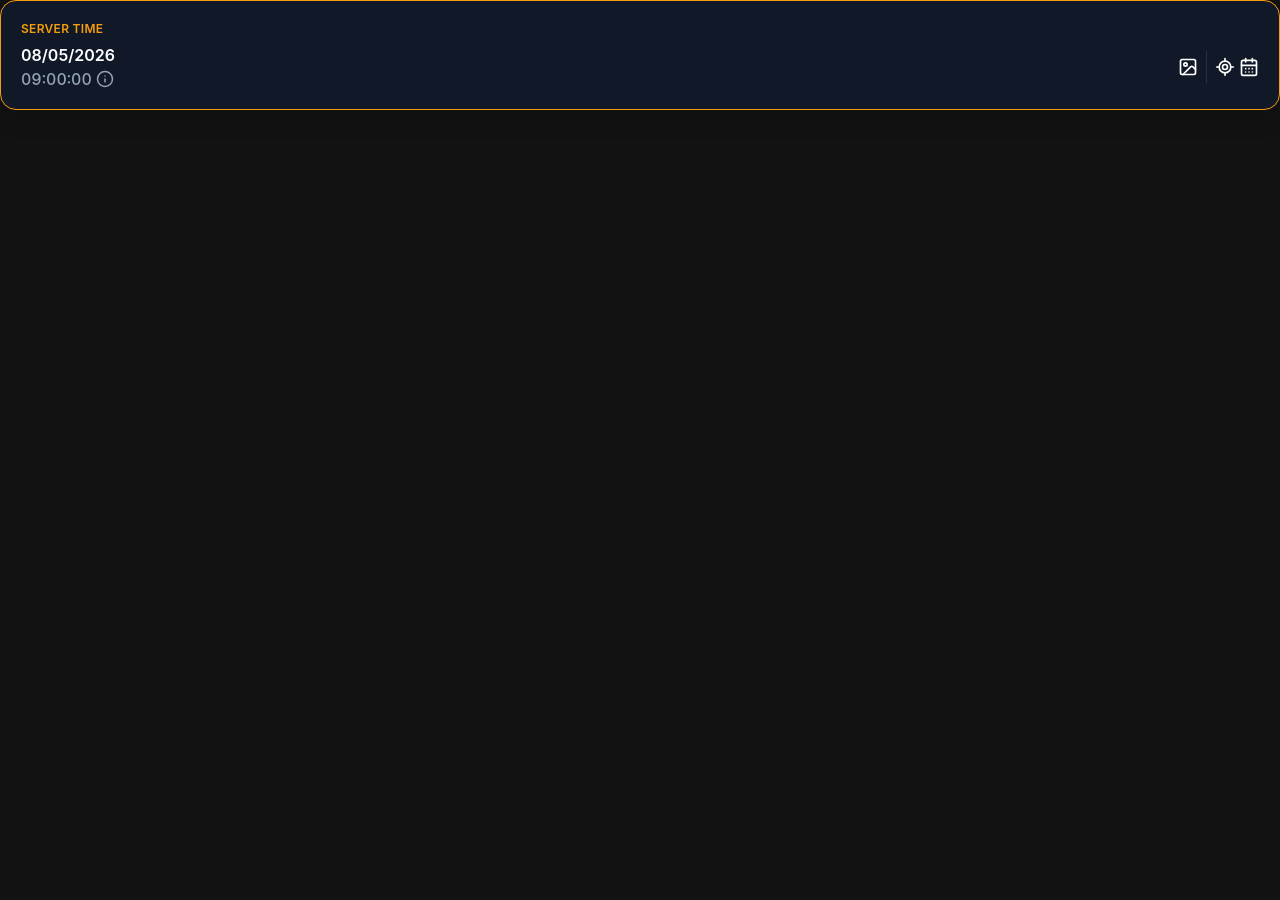
Test case: DateSummary › shows the server-time explanation when tapped and closes it on an outside tap
Click the button named "About server time" at (105, 79), box 96,70 -> 114,88
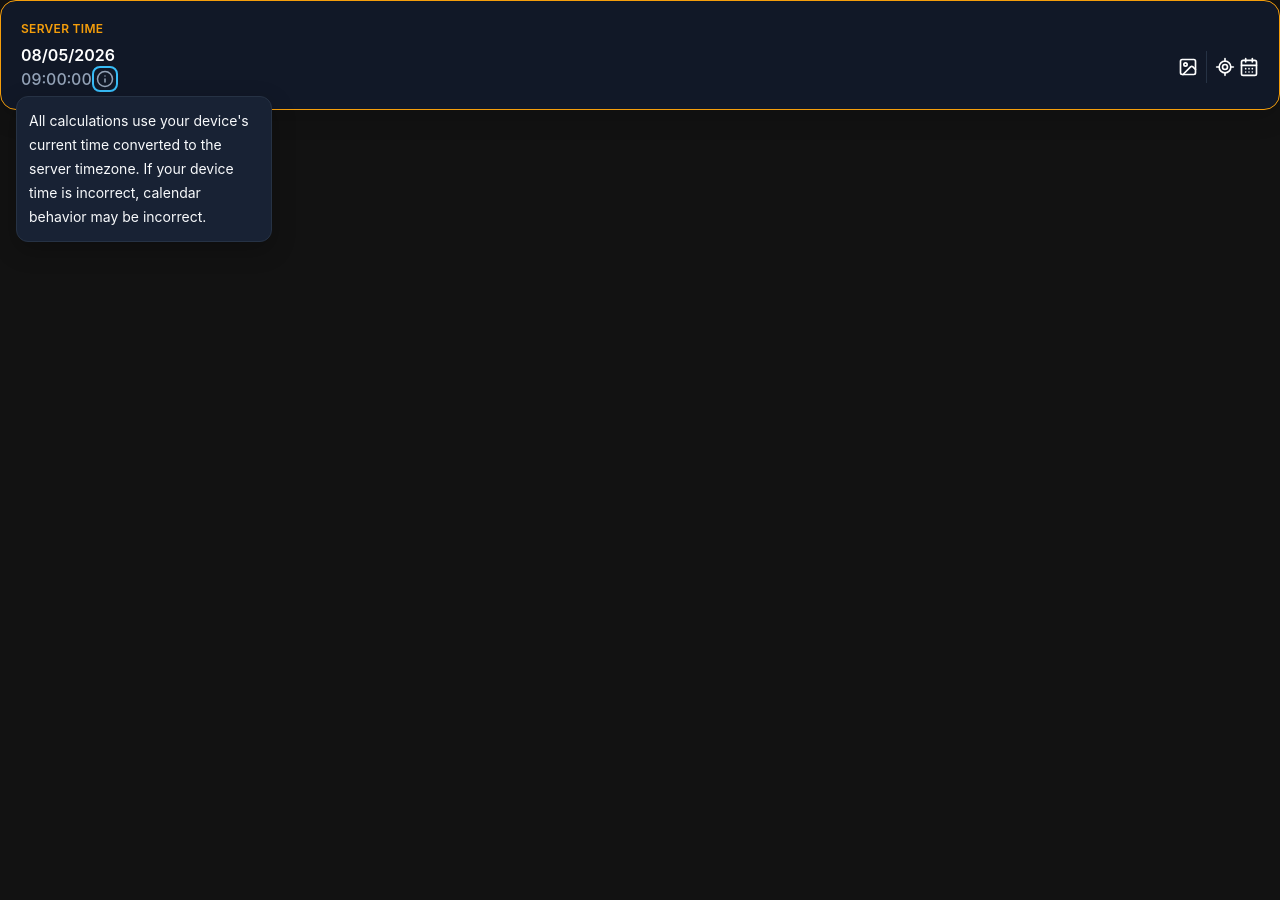
Expected: the tooltip is shown, 16,96 -> 272,242
Press the mouse on the element that starts with "Server time" at (640, 450), box 0,0 -> 1279,899
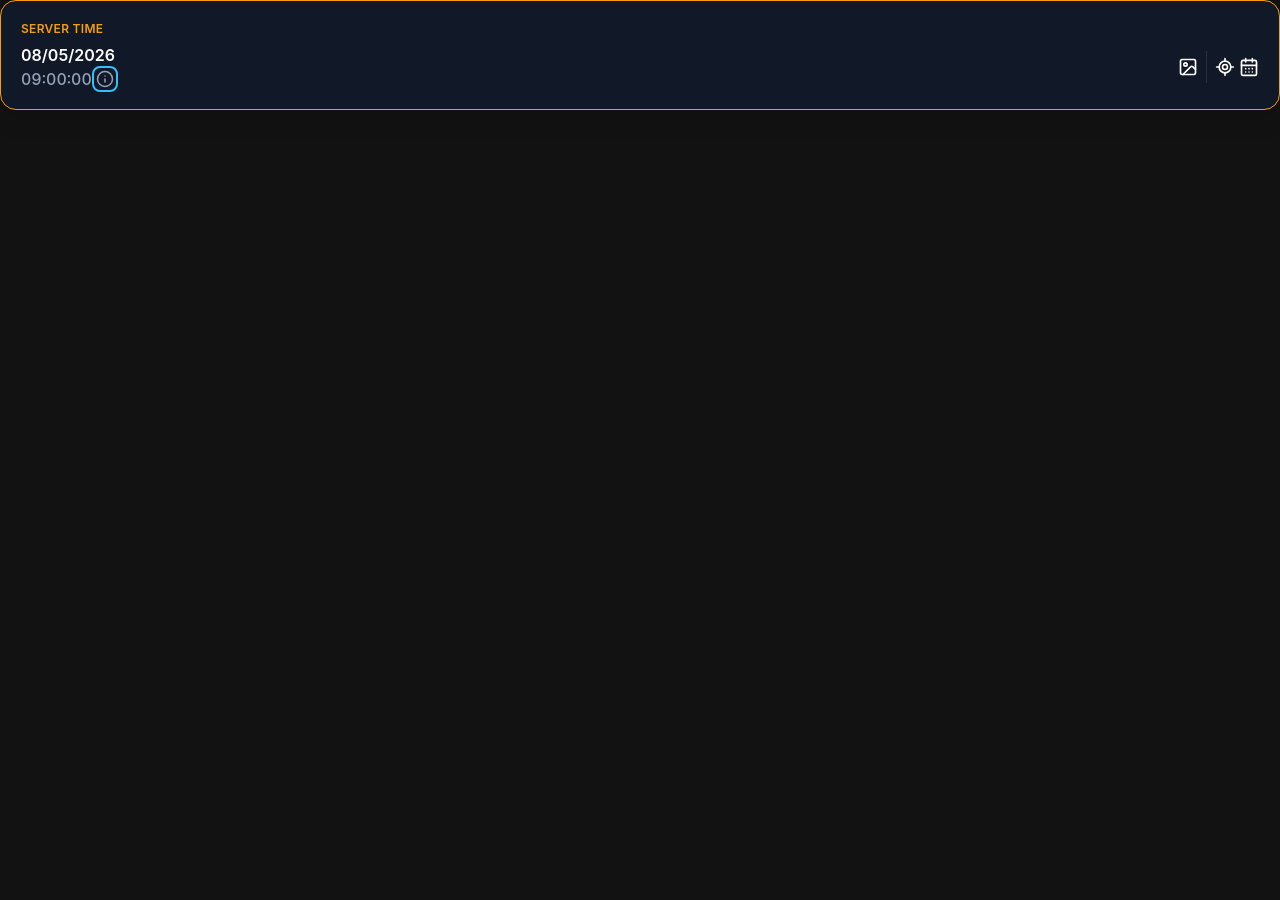
Expected: the tooltip is gone
